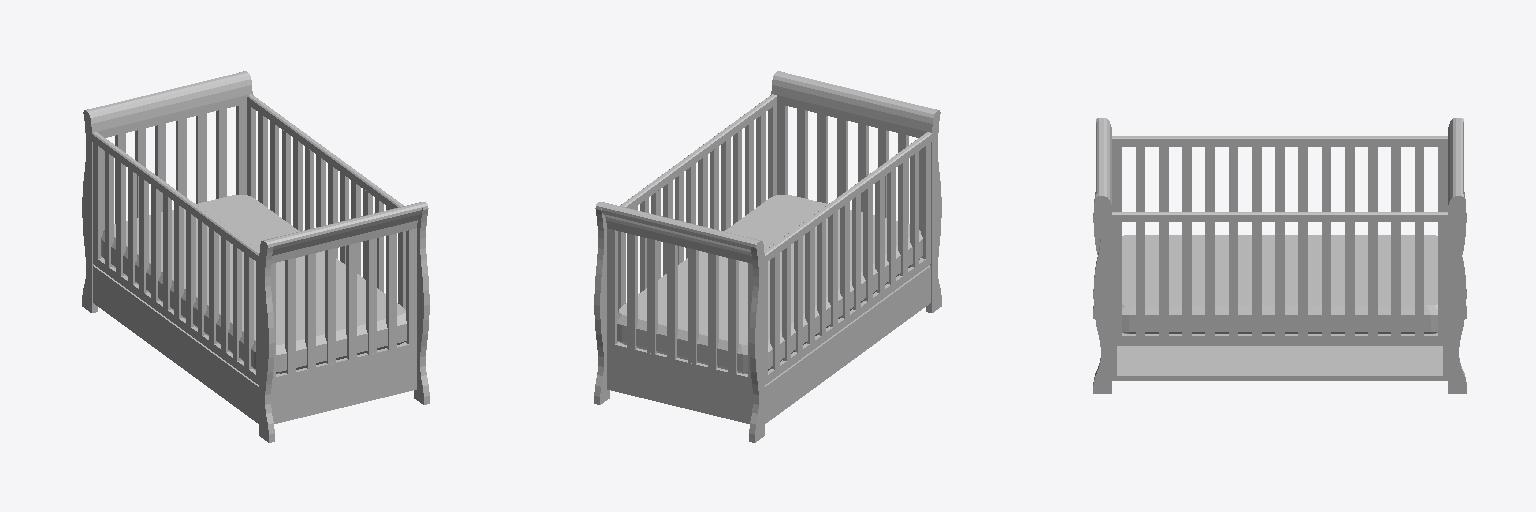
Rendered from baby_bed.obj.
3 views of the same model, side by side, from view 1: azimuth 30°, elevation 25°; view 2: azimuth 150°, elevation 25°; view 3: azimuth 270°, elevation 25° (orthographic).
Parts seen in each view (by area): view 1: SM_BabyBed; view 2: SM_BabyBed; view 3: SM_BabyBed.
Part boxes in pixels (x1,y1,x2,y2): SM_BabyBed: (82, 71, 429, 442); SM_BabyBed: (594, 71, 941, 442); SM_BabyBed: (1093, 118, 1466, 393).
Bounding box in the file's own units: 0.6788 × 0.8 × 1.36.